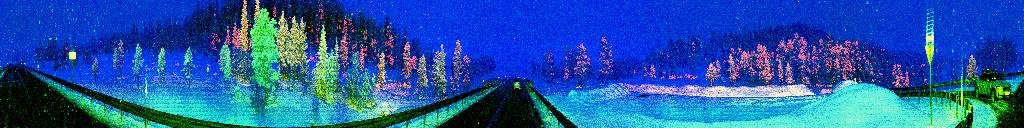pole: (960, 52, 964, 121), (144, 67, 148, 109)
